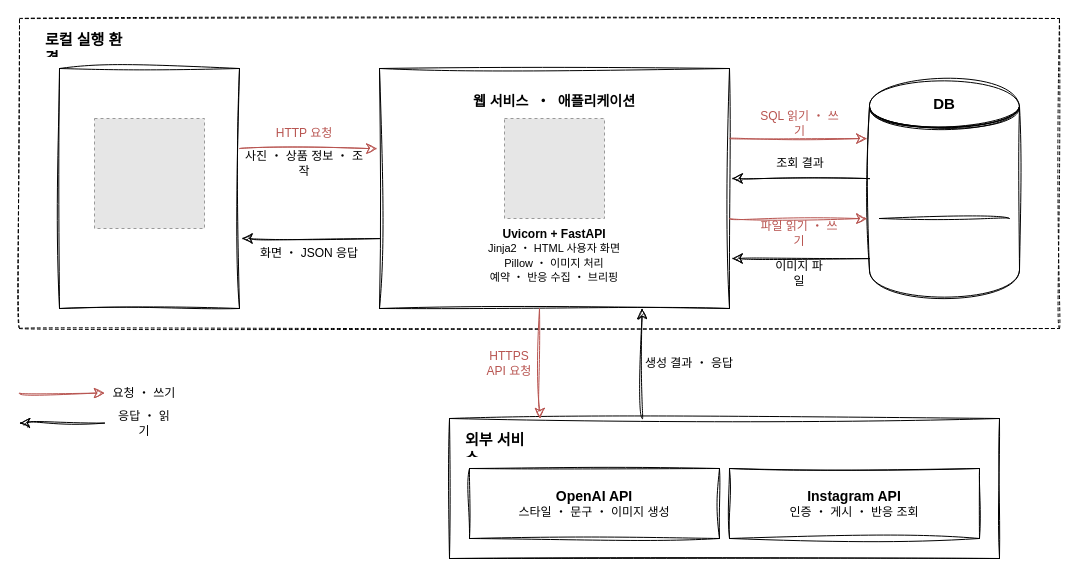
Image size: 1078x577. Some labels were removed from this diagram. Grey dashed boxes stand in for pictures. Here are the shapes that lost their labels. From the top down, the box of each, then its label:
(58, 68, 240, 308): 클라이언트 웹 브라우저 HTML ・ CSS ・ JavaScript
(868, 78, 1020, 298): SQLite 상품 ・ 스타일 ・ 게시 상태 반응 ・ 비용 ・ 제작권 로컬 원본 이미지 생성 이미지 완성본 이미지
